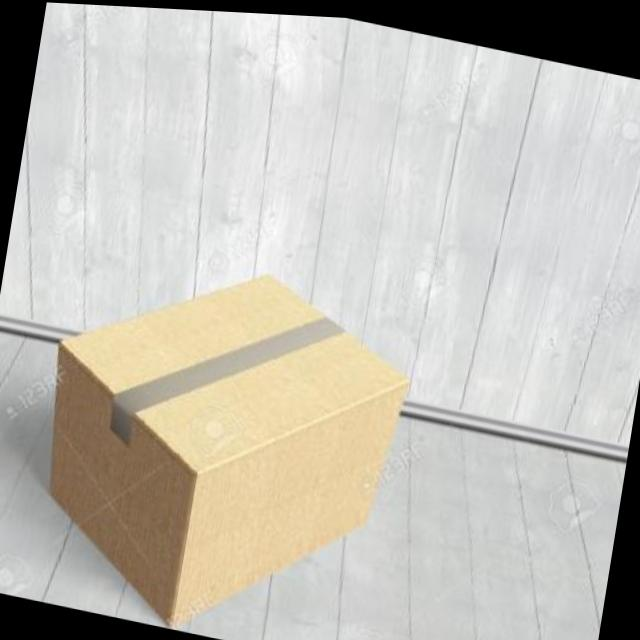box: (1, 219, 440, 640)
